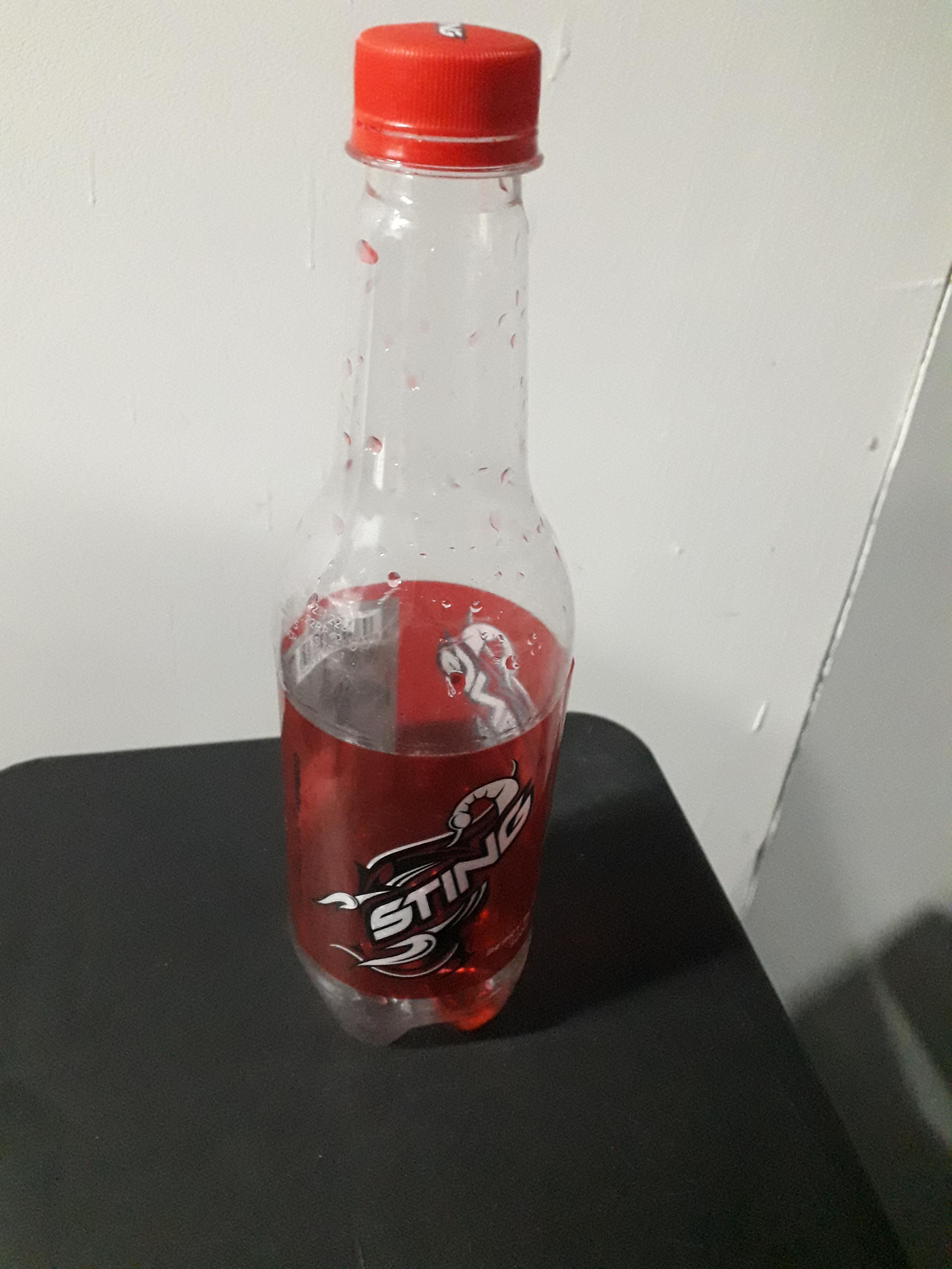bottle-plastic: (284, 17, 579, 1044)
